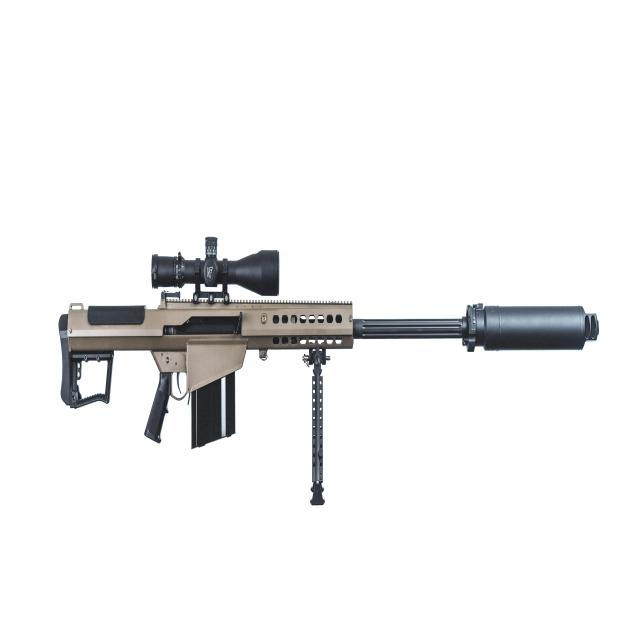Rifle: (58, 234, 601, 452)
